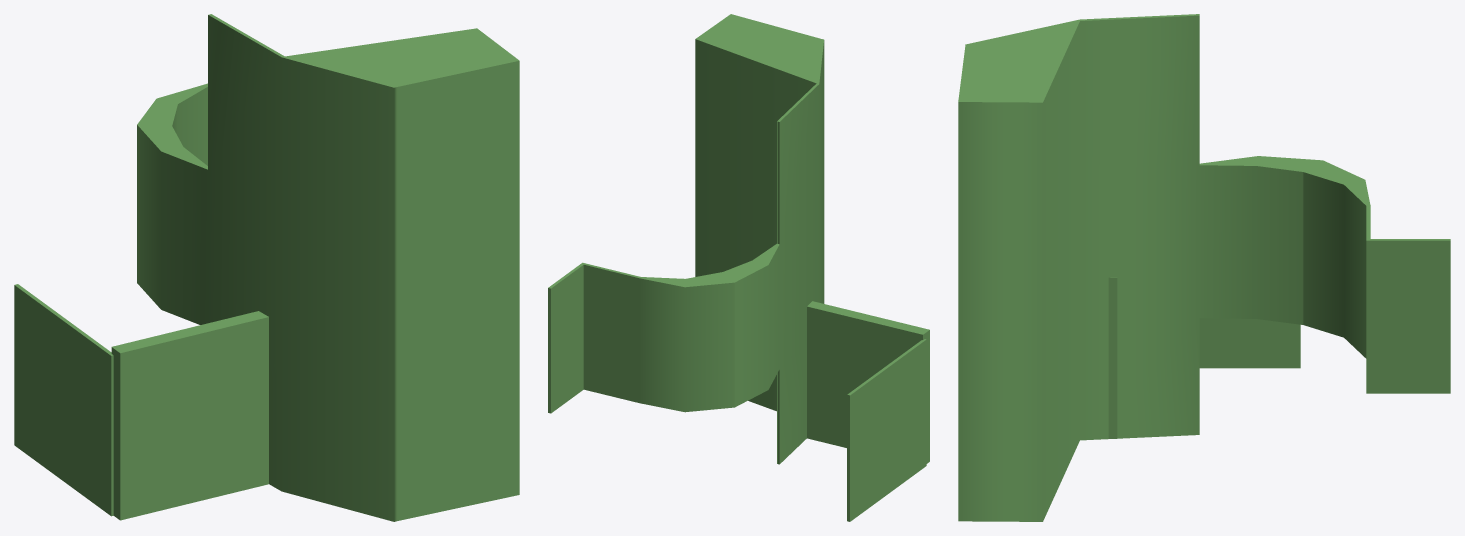
The model's file is MOD_ LOBBY R_lobby outdoor wall.fbx.
3 renders of one model, left to right at view 1: azimuth 30°, elevation 25°; view 2: azimuth 150°, elevation 25°; view 3: azimuth 270°, elevation 25°, orthographic. The views are drawn at different scales.
Parts seen in each view (by area): view 1: wall30, wall31, wall37; view 2: wall30, wall37, wall31, wall28, wall29; view 3: wall30, wall29, wall37, wall31, wall28.
Part boxes in pixels (bbox=[...]): wall30: bbox=[137, 14, 519, 521]; wall31: bbox=[111, 311, 268, 520]; wall37: bbox=[14, 284, 113, 516]; wall30: bbox=[640, 14, 824, 464]; wall37: bbox=[847, 339, 926, 521]; wall31: bbox=[807, 301, 929, 463]; wall28: bbox=[582, 263, 640, 403]; wall29: bbox=[548, 262, 583, 413]; wall30: bbox=[958, 14, 1370, 521]; wall29: bbox=[1366, 239, 1450, 393]; wall37: bbox=[1199, 318, 1300, 368]; wall31: bbox=[1108, 277, 1117, 438]; wall28: bbox=[1366, 205, 1370, 393].
Bounding box in the file's own units: 871 × 1096 × 1167.
